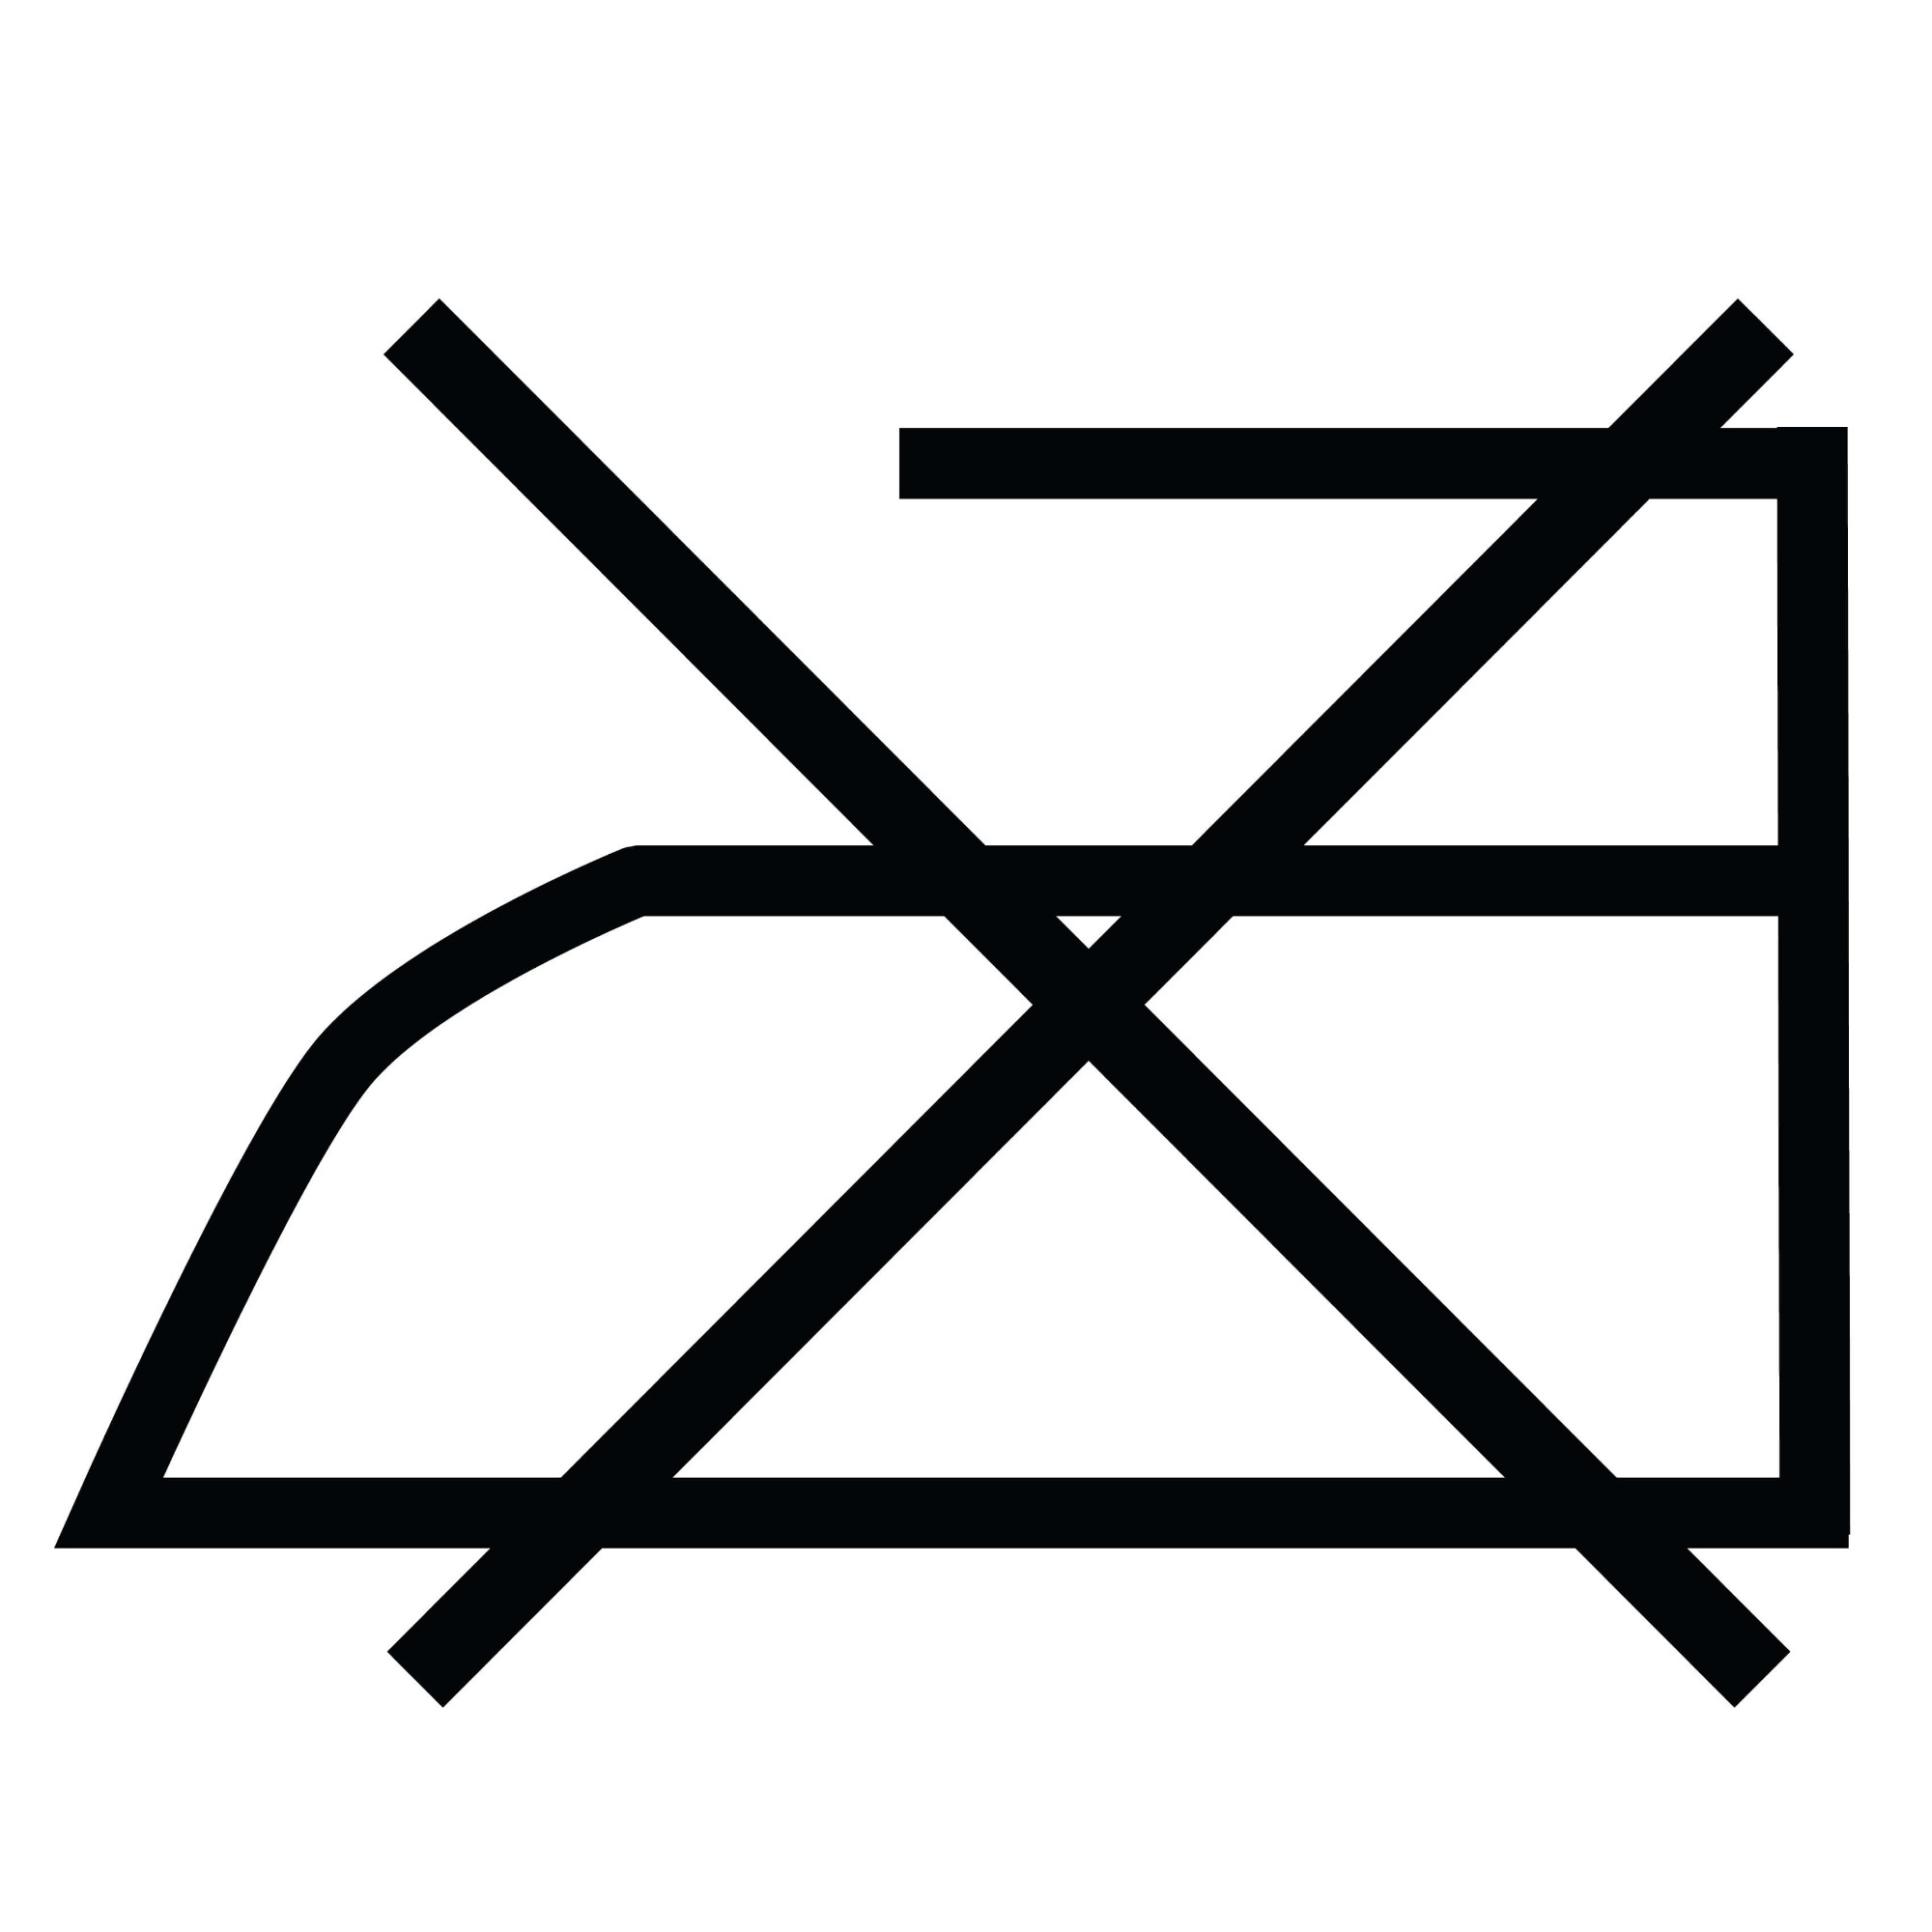do_not_iron: (50, 281, 1852, 1704)
